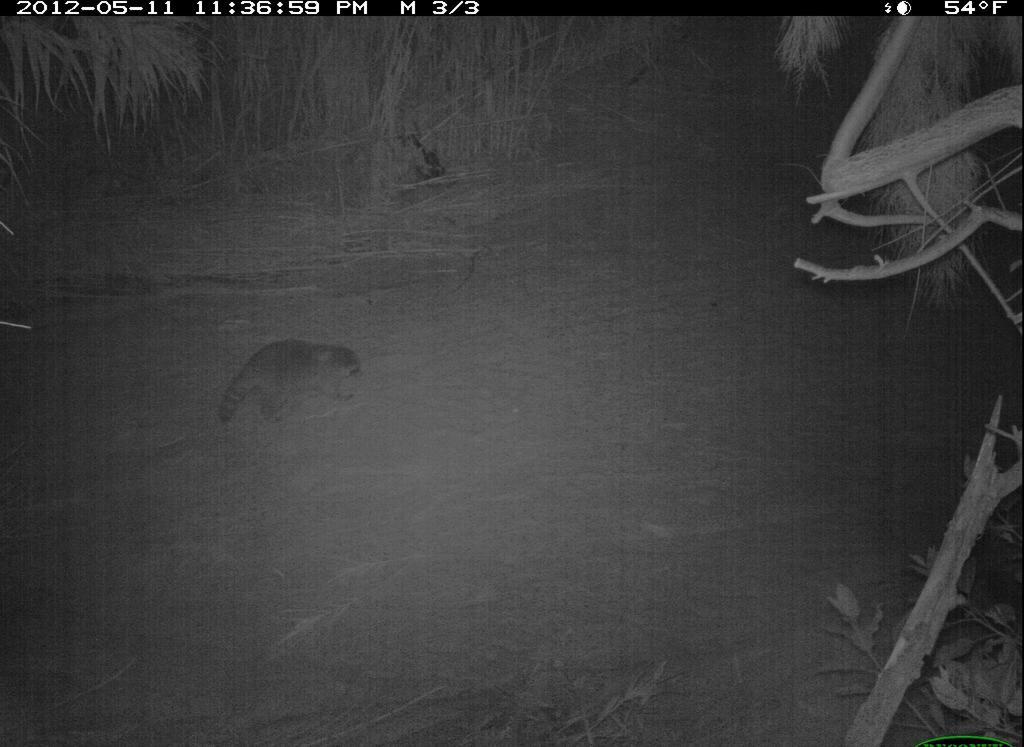raccoon: (213, 329, 377, 442)
